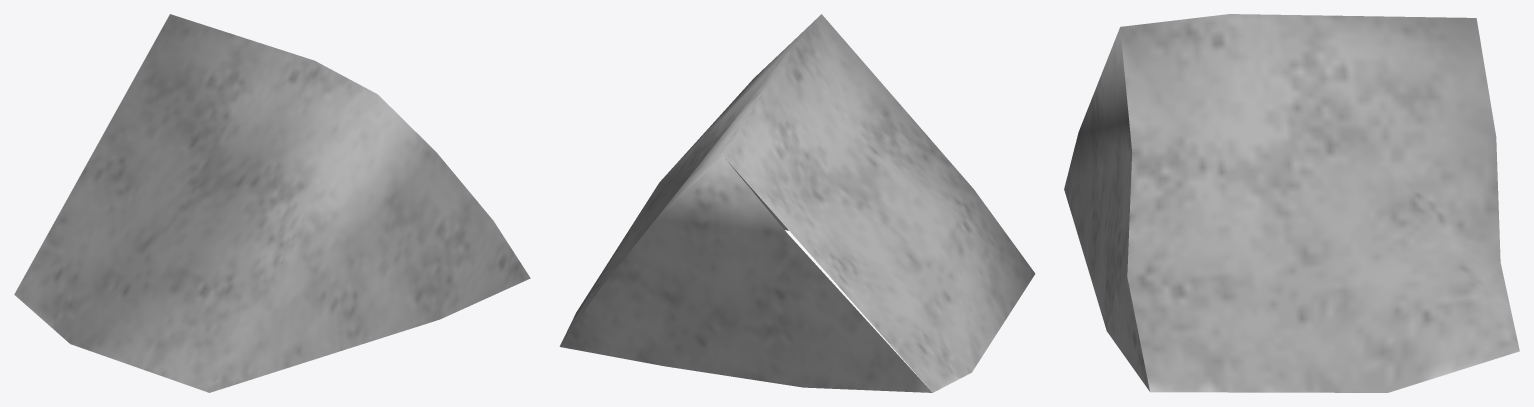
File: ob-bigstone02_lod_01.fbx
The picture shows the model from 3 angles, left to right: view 1: azimuth 30°, elevation 25°; view 2: azimuth 150°, elevation 25°; view 3: azimuth 270°, elevation 25°; orthographic projection. The views are drawn at different scales.
Parts seen in each view (by area): view 1: Box01; view 2: Box01; view 3: Box01.
Boxes of the visible parts, x1,y1,x2,y2 form: Box01: (14, 14, 530, 392); Box01: (559, 14, 1035, 392); Box01: (1064, 14, 1519, 392).
Bounding box in the file's own units: 4.5 × 2.7 × 3.79.
